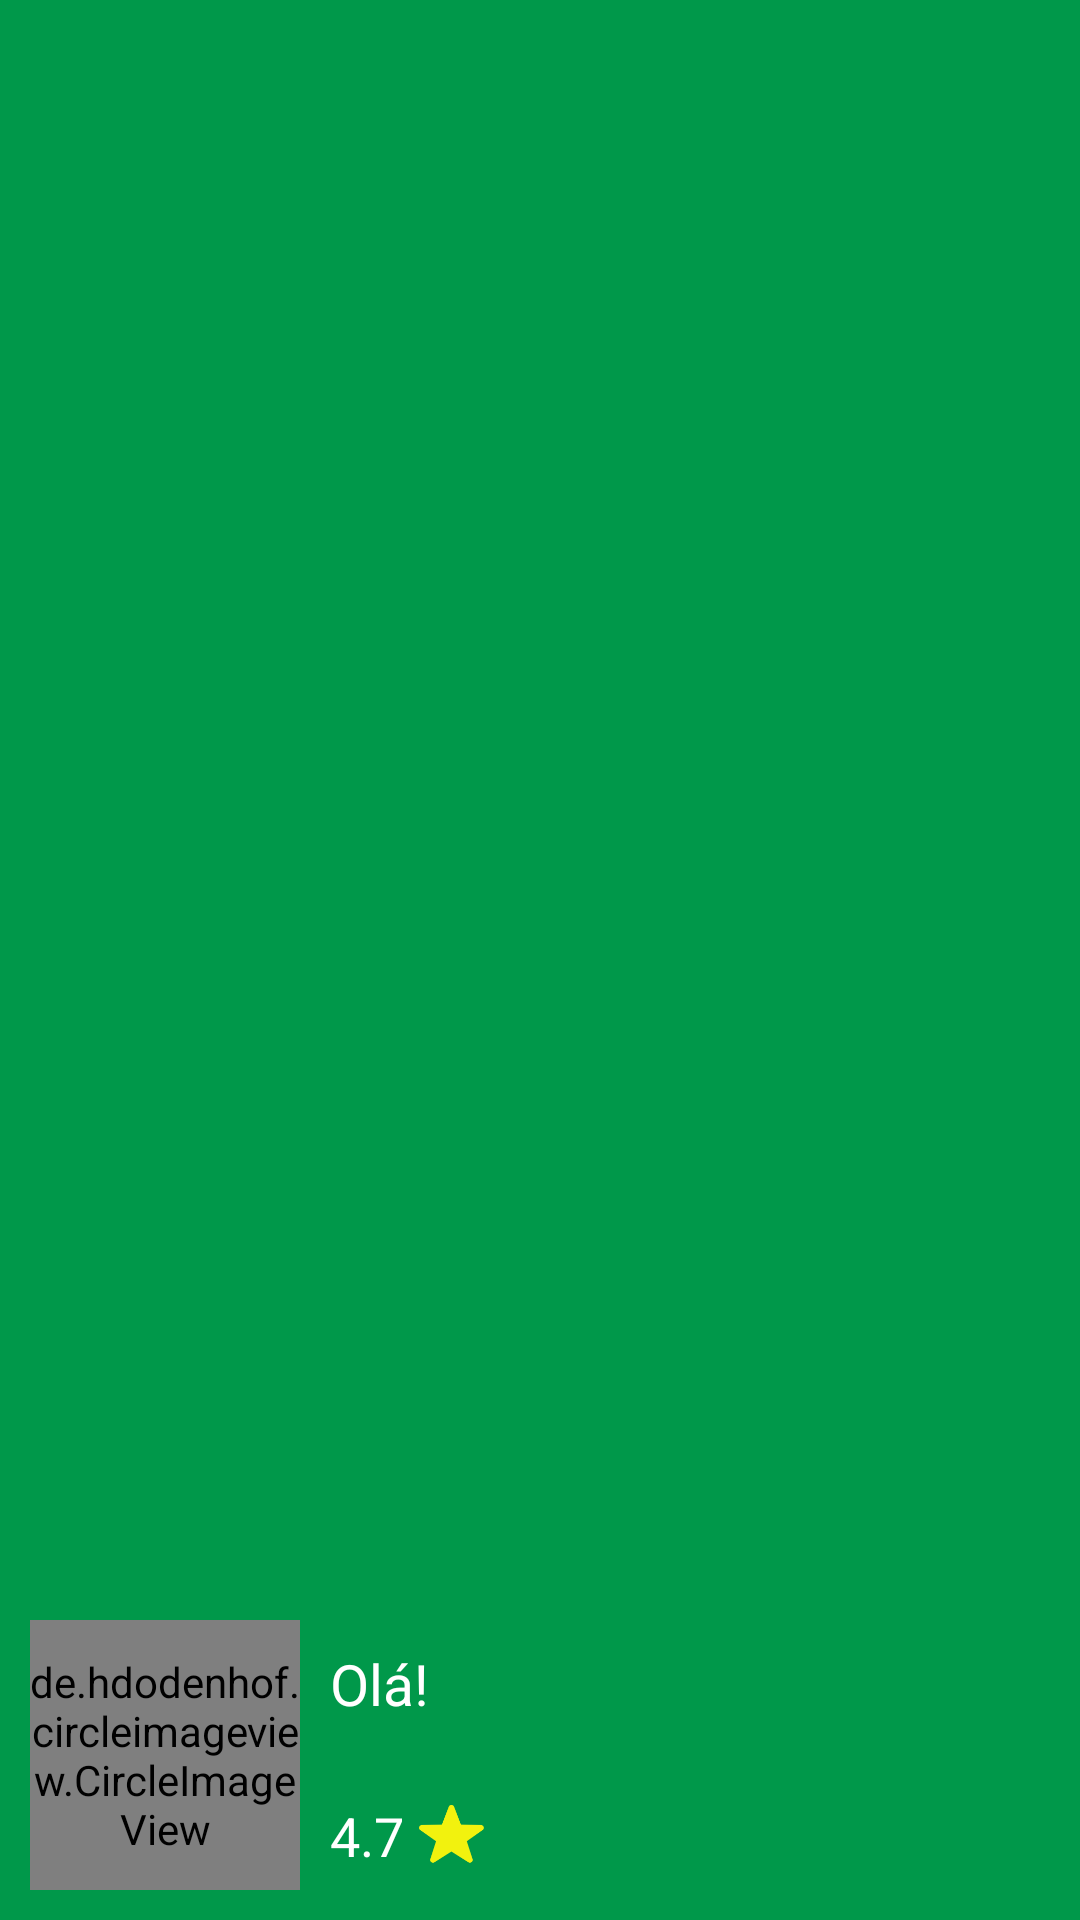

Icon bounding boxes for this 1080*1920 phone screenshot, format [x1=x1, y1=y1, x2=x2, y2=y2]:
star: [x1=419, y1=1805, x2=484, y2=1863]
